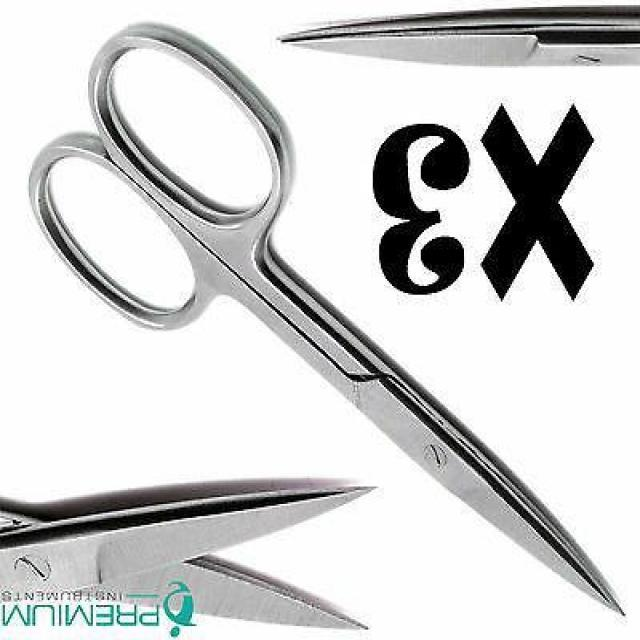Iris: (26, 21, 628, 626), (0, 478, 379, 635), (277, 0, 637, 77)
